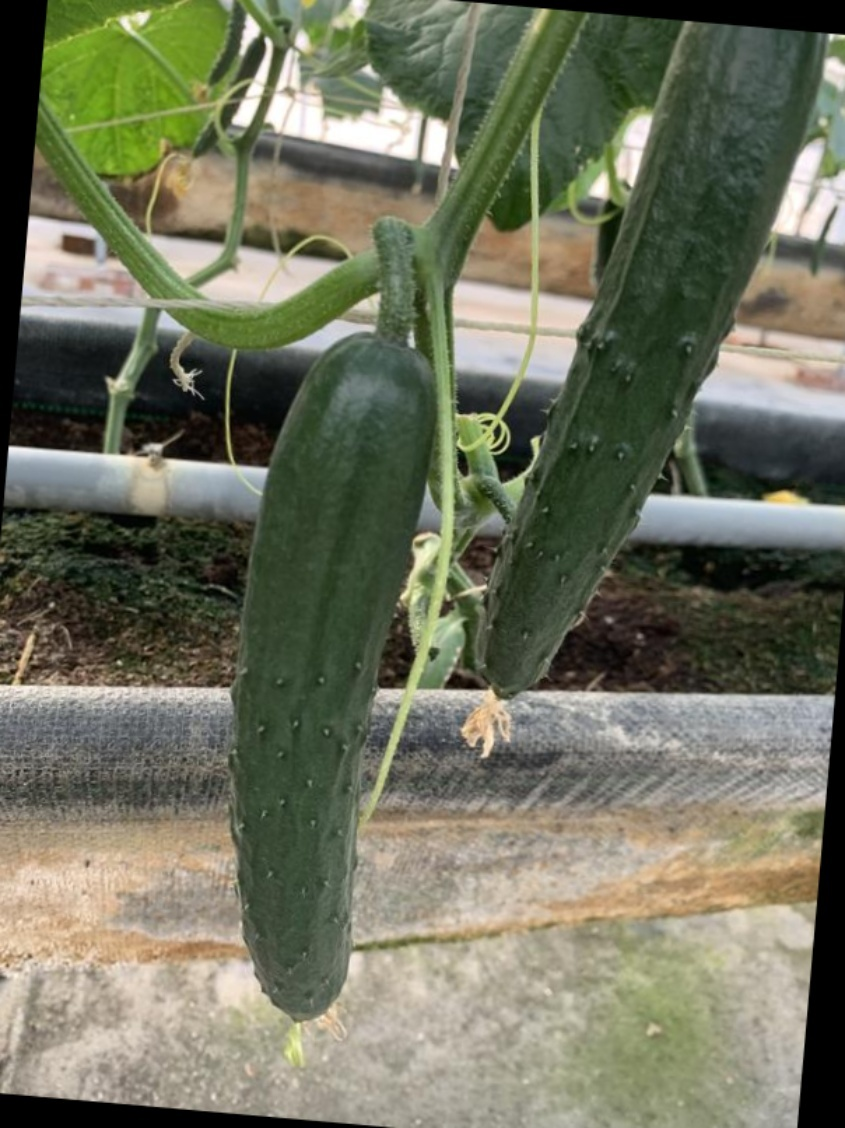mature: (465, 11, 830, 714)
